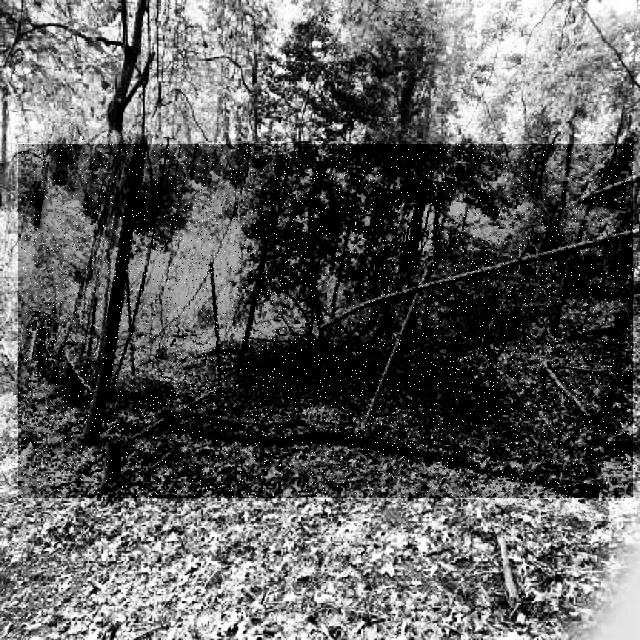anomaly-fence: (18, 144, 633, 498)
